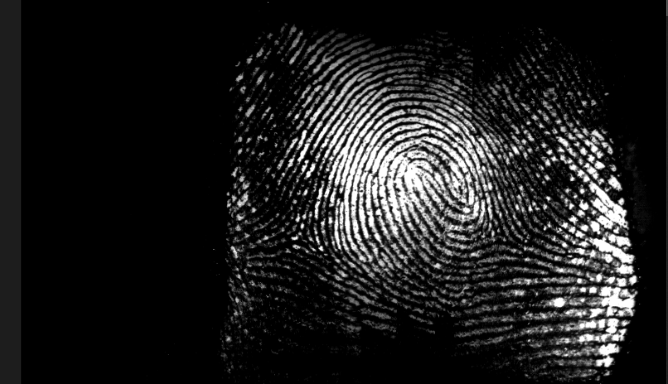nucelo: (398, 157, 433, 195)
verticilo: (281, 217, 323, 261), (480, 220, 518, 253)
